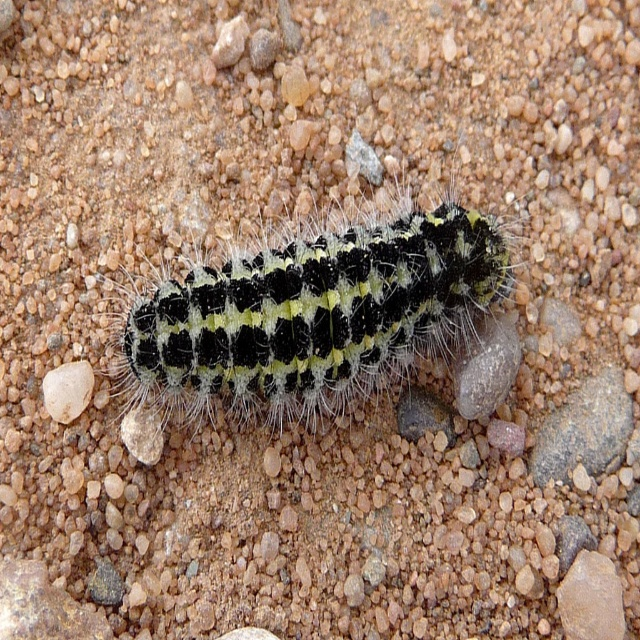Caterpillar: (76, 150, 537, 478)
